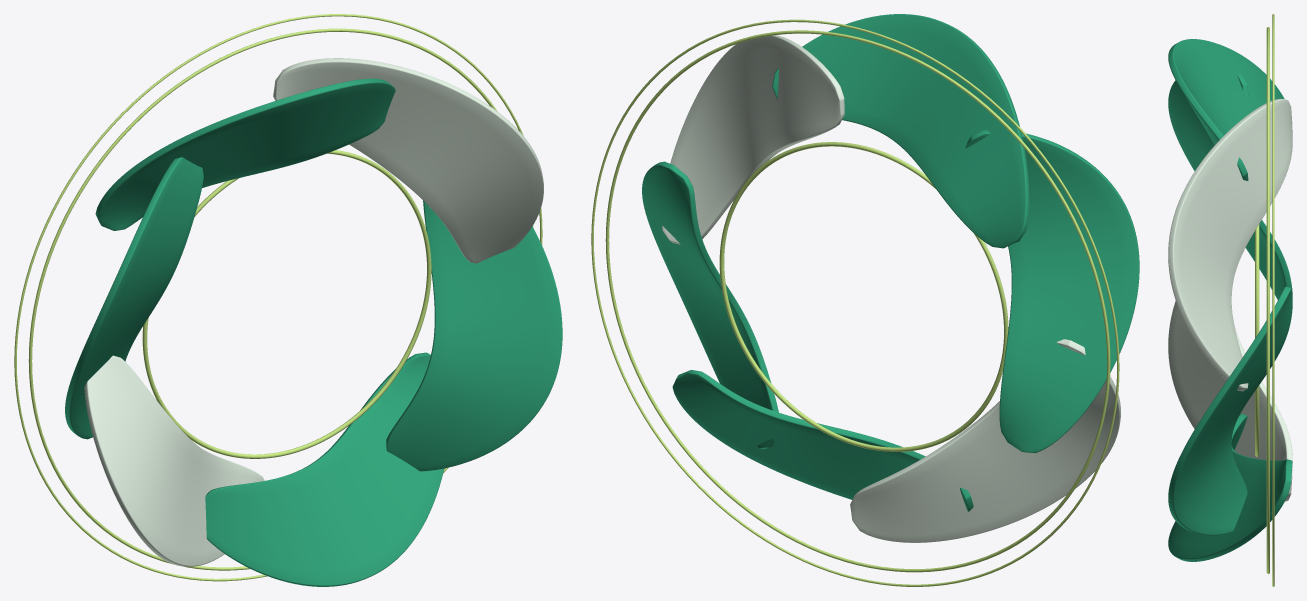
Rendered from provision-hook-portal.glb.
The picture shows the model from 3 angles, left to right: view 1: azimuth 30°, elevation 25°; view 2: azimuth 150°, elevation 25°; view 3: azimuth 270°, elevation 25°; orthographic projection. The views are drawn at different scales.
Visible parts, largest first — view 1: Blade_5, Blade_4, Blade_0, Blade_3, Blade_1, Blade_2, Orbital light 2.68, Orbital light 2.81, Orbital light 1.52; view 2: Blade_2, Blade_1, Blade_3, Blade_0, Blade_4, Blade_5, Orbital light 2.68, Orbital light 2.81, Orbital light 1.52; view 3: Blade_0, Blade_5, Blade_1, Blade_3, Blade_4, Blade_2, Orbital light 2.68, Orbital light 2.81, Orbital light 1.52.
Part boxes in pixels (x1,y1,x2,y2): Blade_5: (386,200,562,471); Blade_4: (205,352,444,586); Blade_0: (273,58,543,263); Blade_3: (84,355,264,566); Blade_1: (95,78,395,230); Blade_2: (65,157,203,439); Orbital light 2.68: (28,28,533,570); Orbital light 2.81: (14,14,542,581); Orbital light 1.52: (142,150,431,458); Blade_2: (965,130,1139,453); Blade_1: (772,14,1029,248); Blade_3: (850,339,1120,542); Blade_0: (662,35,844,244); Blade_4: (672,370,973,511); Blade_5: (642,161,778,449); Orbital light 2.68: (605,30,1110,572); Orbital light 2.81: (591,19,1119,586); Orbital light 1.52: (719,142,1008,451); Blade_0: (1168,98,1292,391); Blade_5: (1168,286,1292,535); Blade_1: (1168,39,1284,180); Blade_3: (1168,290,1292,501); Blade_4: (1168,413,1292,561); Blade_2: (1168,72,1292,299); Orbital light 2.68: (1266,27,1269,573); Orbital light 2.81: (1272,14,1274,586); Orbital light 1.52: (1255,224,1259,456).
Size of the model in its own units: 5.64 by 5.64 by 1.23.
